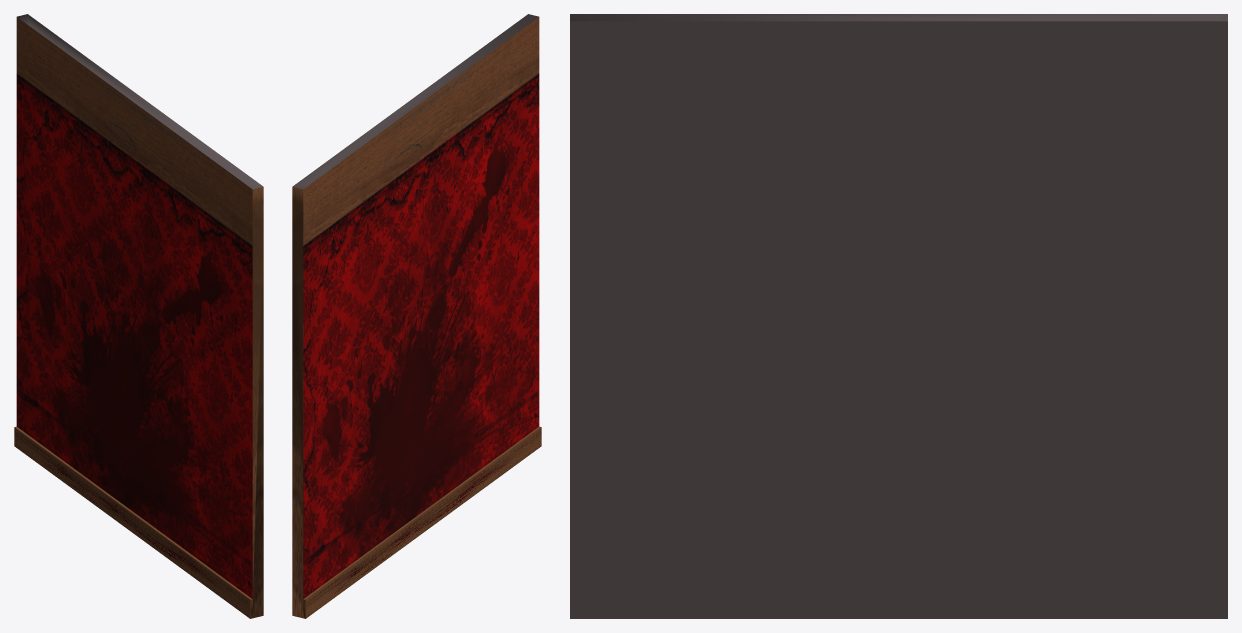
The model's file is wall_blood_flipped2.FBX.
3 views of the same model, side by side, from view 1: azimuth 30°, elevation 25°; view 2: azimuth 150°, elevation 25°; view 3: azimuth 270°, elevation 25° (orthographic). The views are drawn at different scales.
Visible parts, largest first — view 1: Wall_Mid_blud_flip; view 2: Wall_Mid_blud_flip; view 3: Wall_Mid_blud_flip.
Boxes of the visible parts, left/top/right/bottom form: Wall_Mid_blud_flip: left=14, top=14, right=263, bottom=618; Wall_Mid_blud_flip: left=292, top=14, right=541, bottom=618; Wall_Mid_blud_flip: left=570, top=14, right=1227, bottom=618.
Bounding box in the file's own units: 2.59 × 78.93 × 78.74.
Materials: 1 (1 with a texture image).
